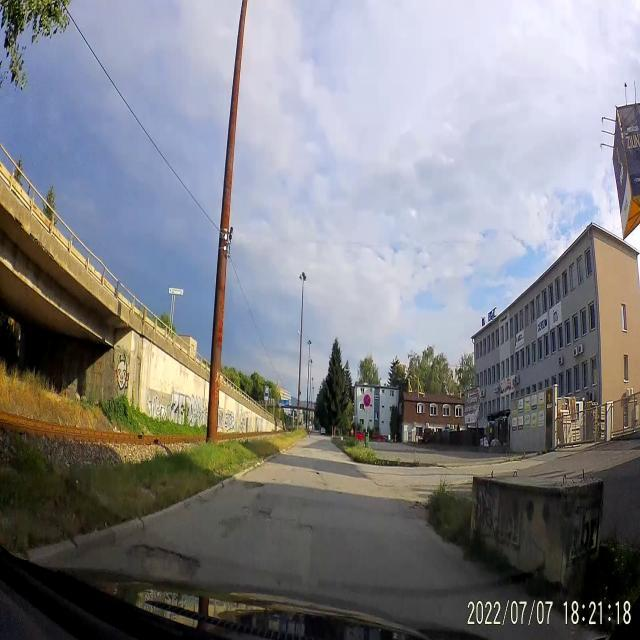Pothole: (126, 543, 200, 584), (240, 469, 266, 496), (303, 465, 329, 487), (290, 518, 314, 534), (406, 501, 429, 514), (257, 504, 274, 520)
